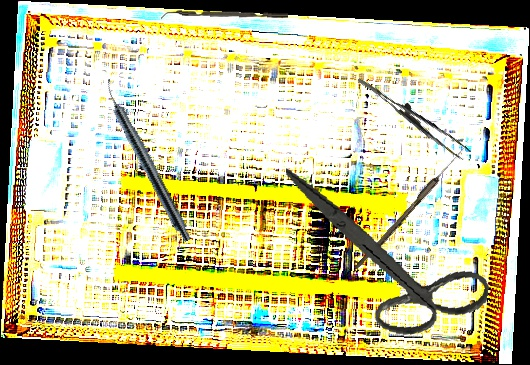Chopper: (160, 8, 289, 25)
Handpiece: (97, 77, 197, 244)
Iris Scissors: (265, 166, 502, 347)
Surgical Spoon: (354, 143, 468, 273)
Tissue Forceps: (357, 61, 472, 171)
